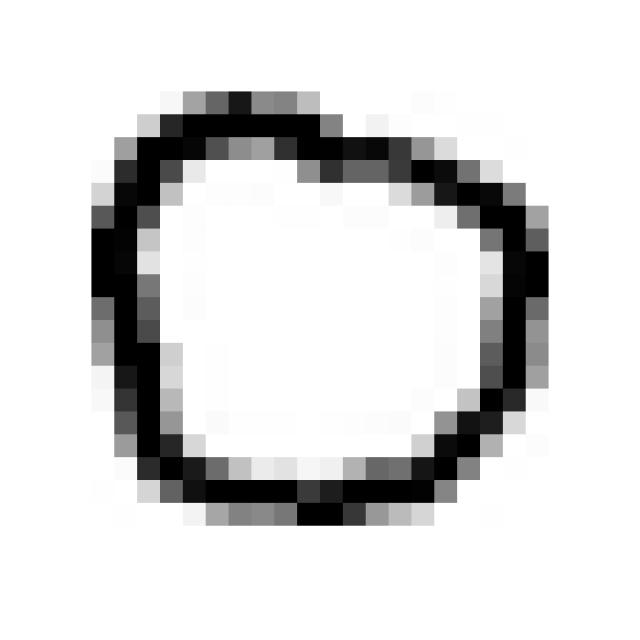5 -five-: (66, 80, 562, 539)
